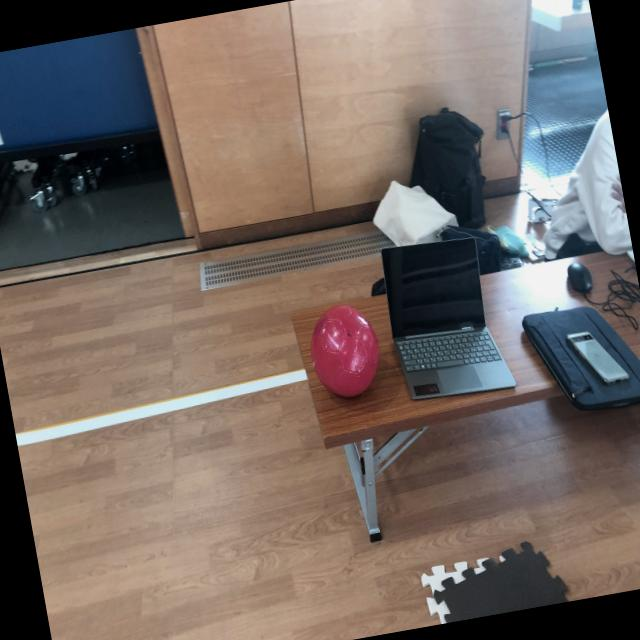red_ball: (303, 298, 387, 403)
